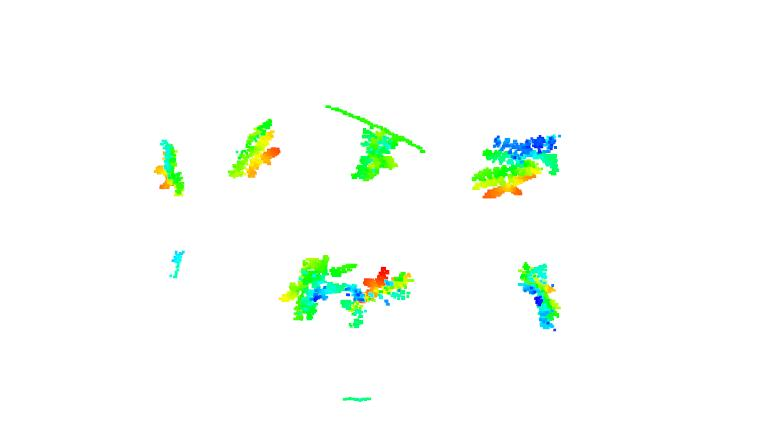chickpea: (469, 133, 566, 200), (281, 251, 356, 322), (340, 266, 415, 327), (345, 126, 408, 186), (514, 259, 563, 333), (224, 120, 282, 181), (153, 140, 191, 198)
